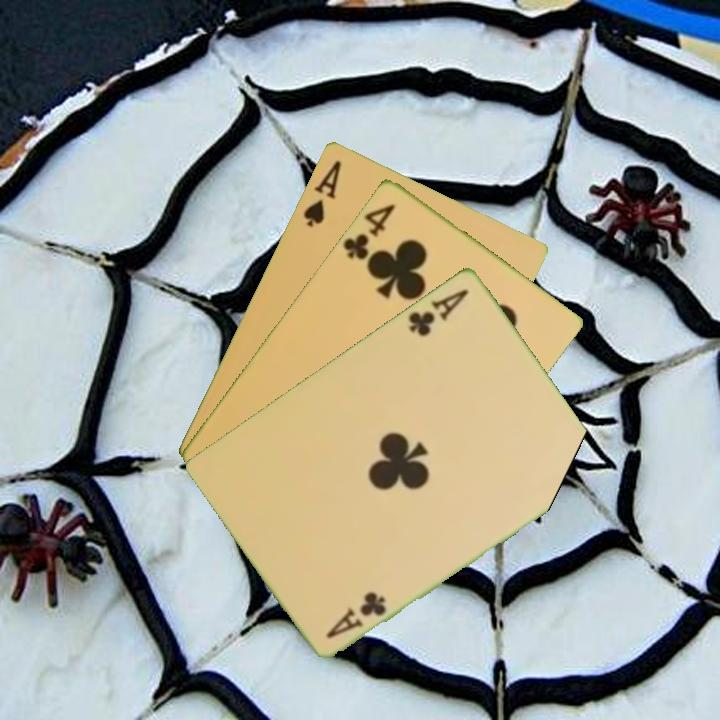4c: (339, 199, 398, 265)
Ac: (404, 284, 472, 339), (322, 587, 390, 641)
As: (299, 155, 344, 229)
